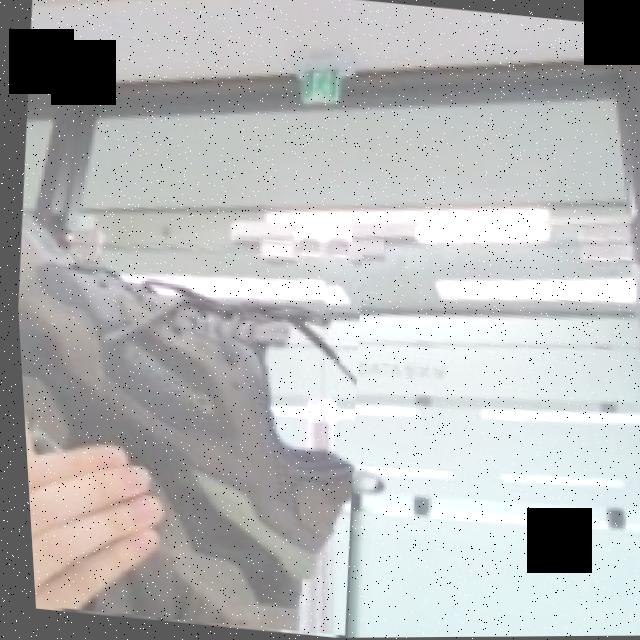shoe: (10, 210, 377, 637)
